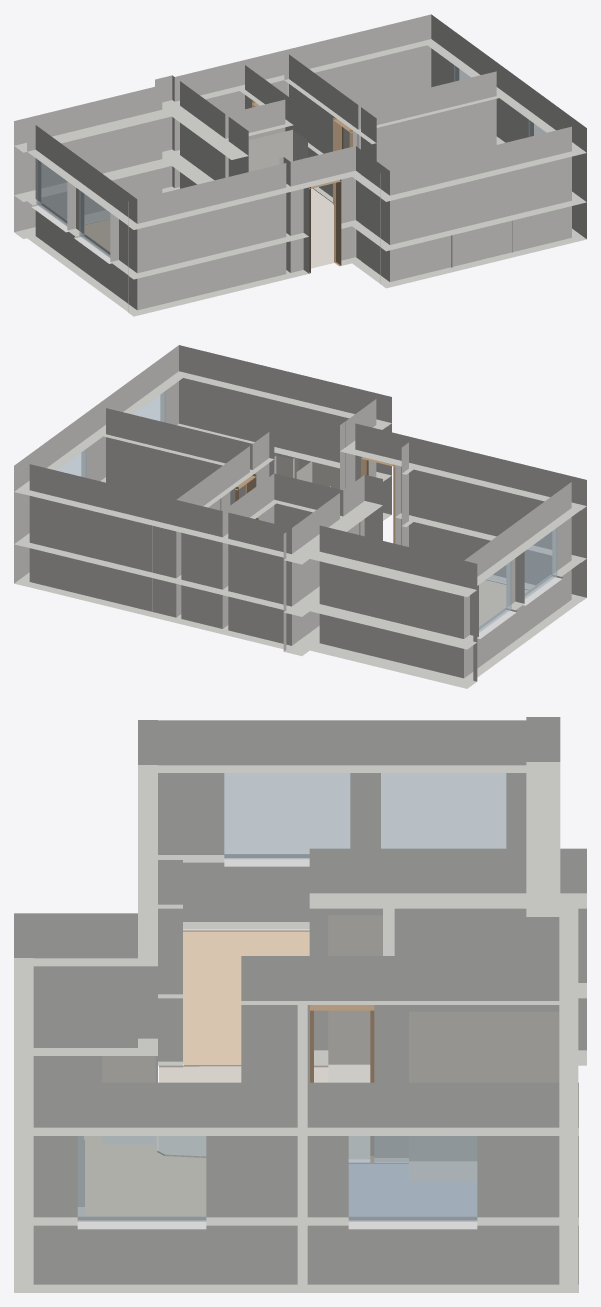
3 renders of one model, top to bottom at view 1: azimuth 30°, elevation 25°; view 2: azimuth 150°, elevation 25°; view 3: azimuth 270°, elevation 25°, orthographic. The views are drawn at different scales.
Visible parts, largest first — view 1: walls, furniture_1_closet, floor_1_Entry, window_3, window_2, door_5, floor_2_Living_Room, door_4; view 2: walls, window_2, window_3, floor_2_Living_Room, furniture_5_appliance, window_1, window_0, door_5; view 3: walls, furniture_0_closet, window_1, window_0, window_2, floor_2_Living_Room, window_3, floor_3_Kitchen, floor_4_Bed_Room, furniture_1_closet, floor_1_Entry, furniture_3_appliance (+4 smaller).
Part boxes in pixels (x1,y1,x2,y2): walls: [14, 14, 586, 316]; furniture_1_closet: [227, 129, 307, 176]; floor_1_Entry: [311, 188, 334, 268]; window_3: [36, 155, 71, 228]; window_2: [79, 186, 114, 257]; door_5: [309, 179, 341, 273]; floor_2_Living_Room: [84, 218, 109, 251]; door_4: [333, 117, 352, 204]; walls: [14, 345, 586, 688]; window_2: [520, 528, 557, 602]; window_3: [479, 561, 511, 632]; floor_2_Living_Room: [479, 579, 528, 626]; furniture_5_appliance: [296, 461, 339, 487]; window_1: [130, 391, 165, 422]; window_0: [52, 444, 86, 477]; door_5: [361, 456, 395, 543]; walls: [14, 717, 586, 1292]; furniture_0_closet: [409, 1011, 559, 1181]; window_1: [77, 1131, 206, 1221]; window_0: [348, 1136, 477, 1221]; window_2: [224, 773, 350, 859]; floor_2_Living_Room: [183, 930, 309, 1064]; window_3: [381, 769, 506, 848]; floor_3_Kitchen: [84, 1136, 205, 1216]; floor_4_Bed_Room: [349, 1163, 476, 1216]; furniture_1_closet: [328, 915, 382, 1082]; floor_1_Entry: [158, 1065, 369, 1158]; furniture_3_appliance: [102, 1056, 155, 1144].
Size of the model in its own units: 10.75 by 2.72 by 6.95.
